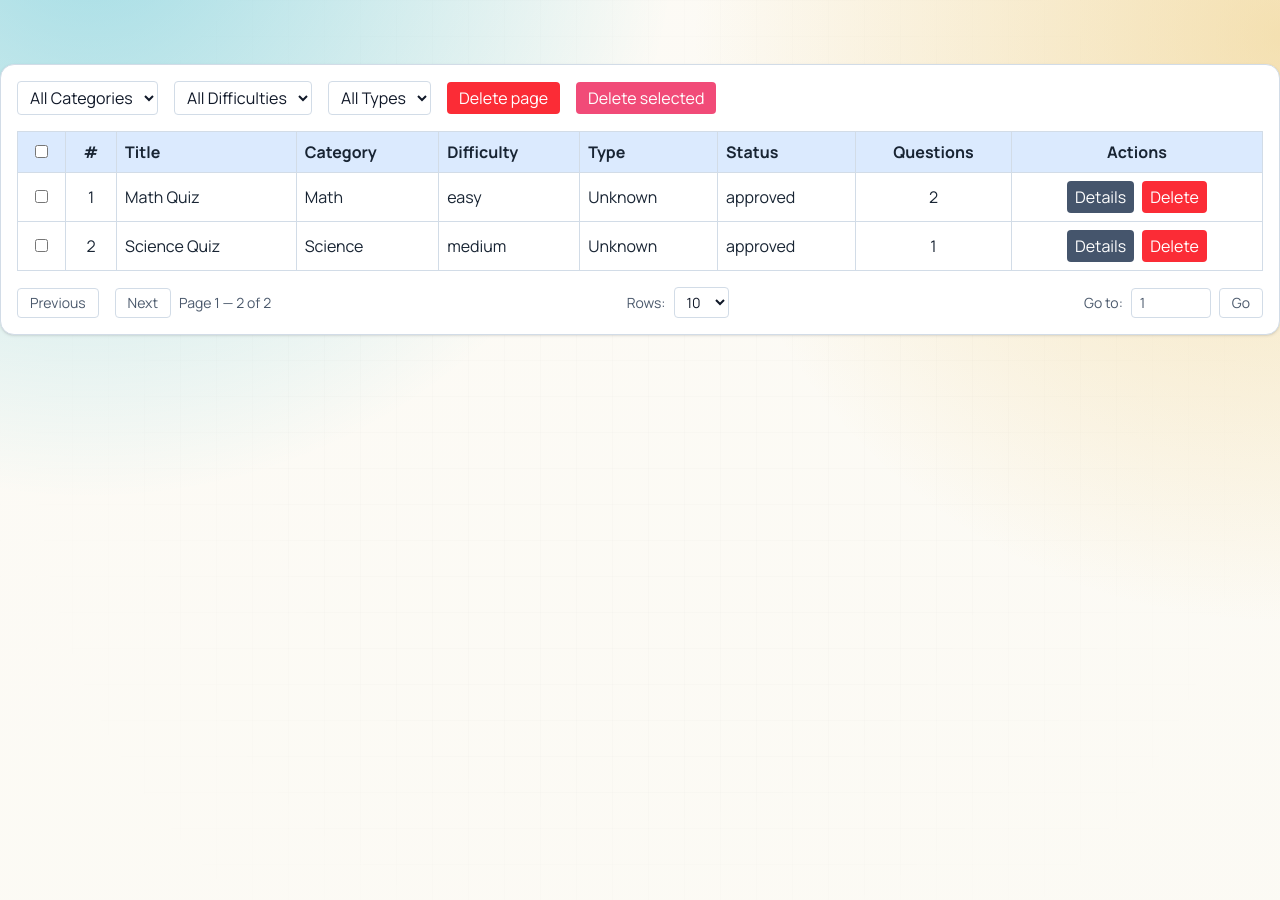
Scenario: QuizList › deletes all quizzes on the current page
Expected: the text "Math Quiz" is shown, [117,172,296,222]
Expected: the text "Science Quiz" is shown, [117,222,296,270]
Click the button "Delete page": [504, 98] box [447,82,560,114]
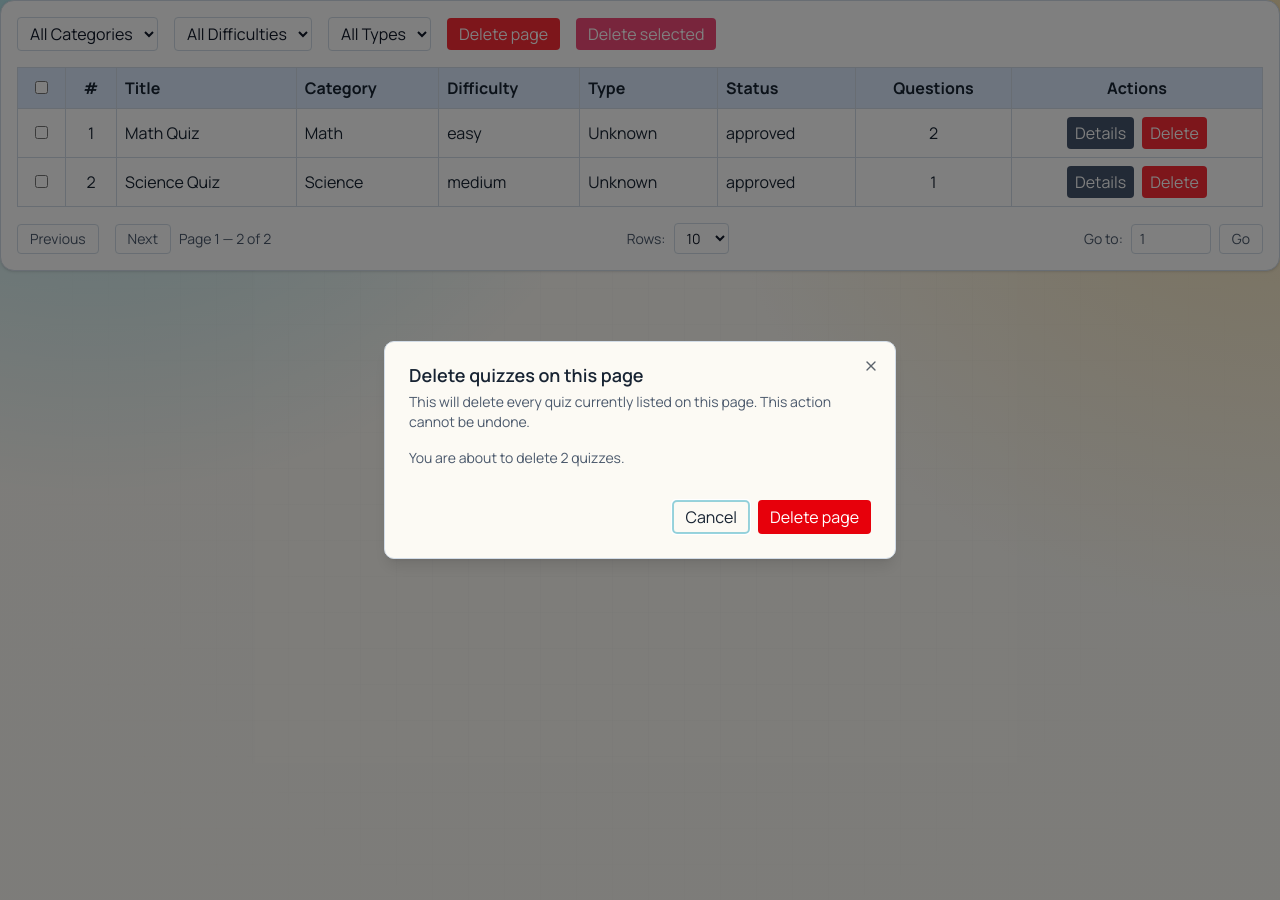
Click the button "Delete page": [814, 517] box [758,500,871,534]
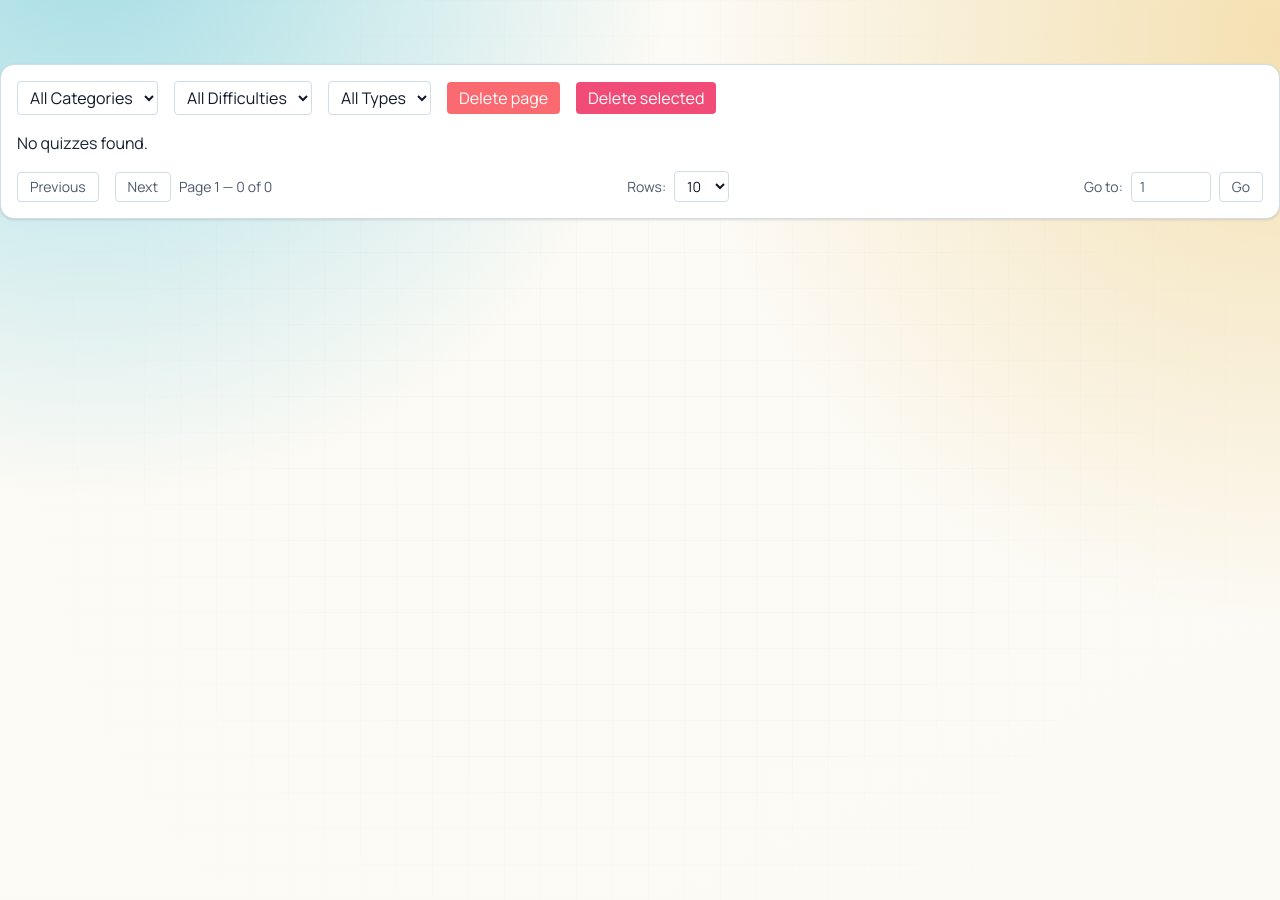
Result: the text "Math Quiz" is gone
Result: the text "Science Quiz" is gone
